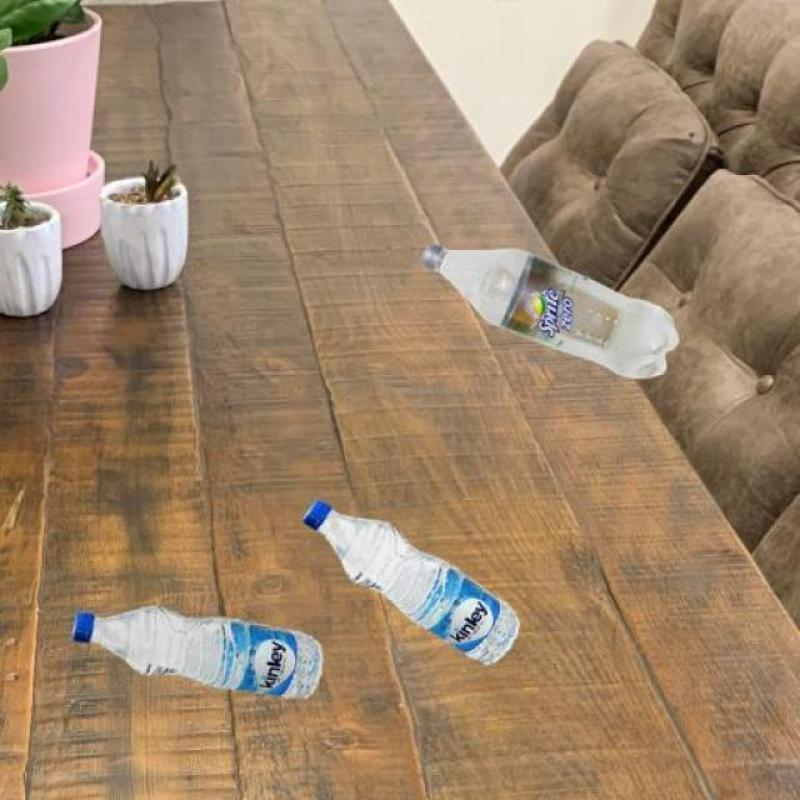botella: (303, 501, 521, 667), (421, 244, 678, 380), (74, 608, 324, 702)
